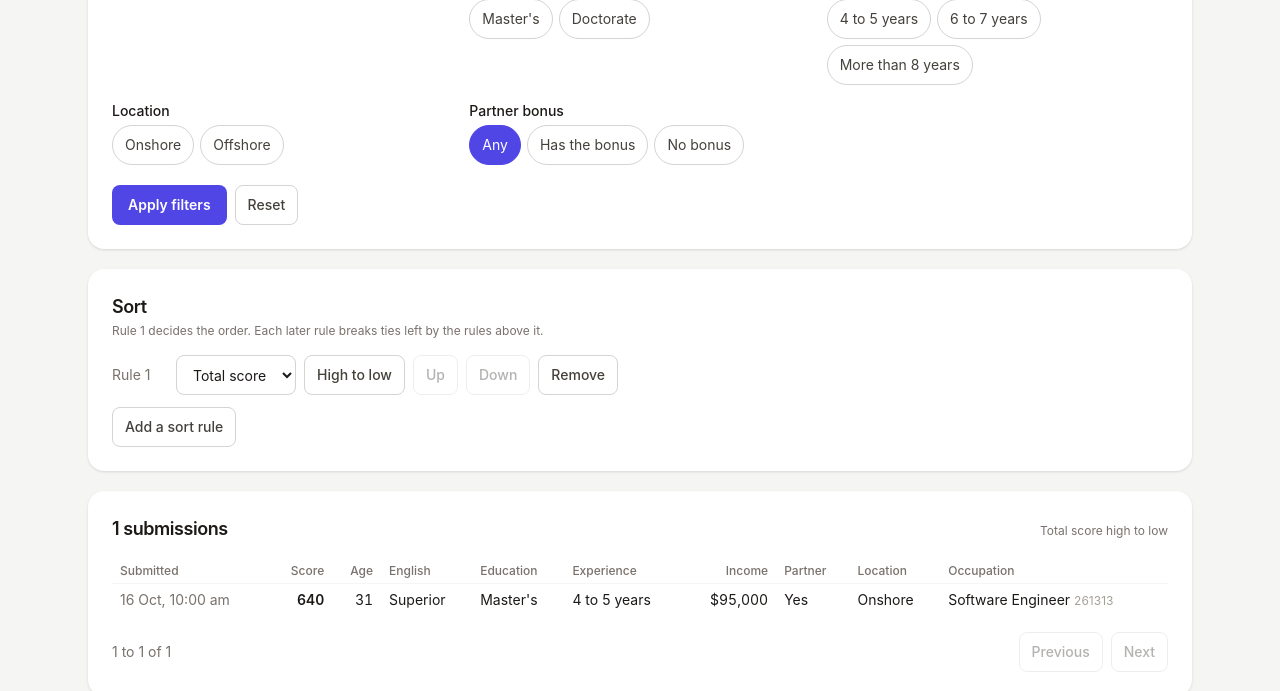
Test: deleting a submission › reports a failure and keeps the confirmation open
The width and height of the screenshot is (1280, 691).
(page scrolled)
What coordinates should you click on to do the following:
click the text "Software Engineer"
I would click on:
 (1054, 600)
Its box is [940,584,1168,616].
(page scrolled)
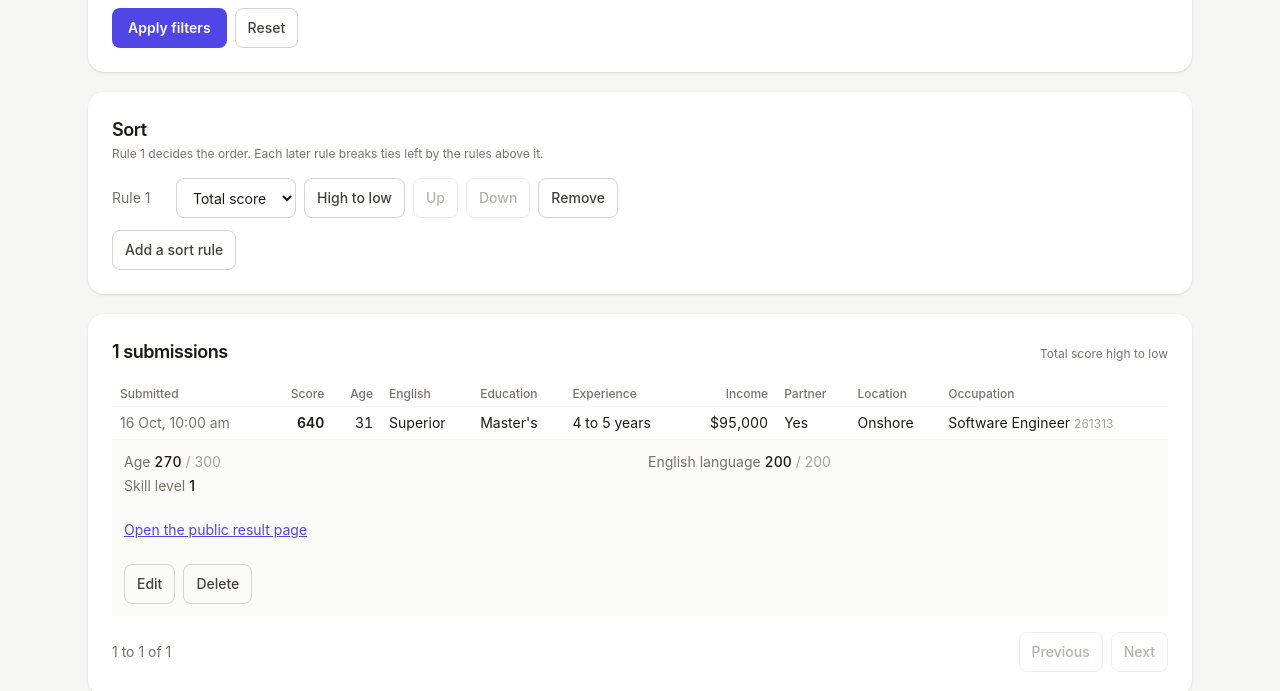
What coordinates should you click on to do the following:
click the button "Delete"
I would click on:
 (218, 584)
Its box is [183,564,252,604].
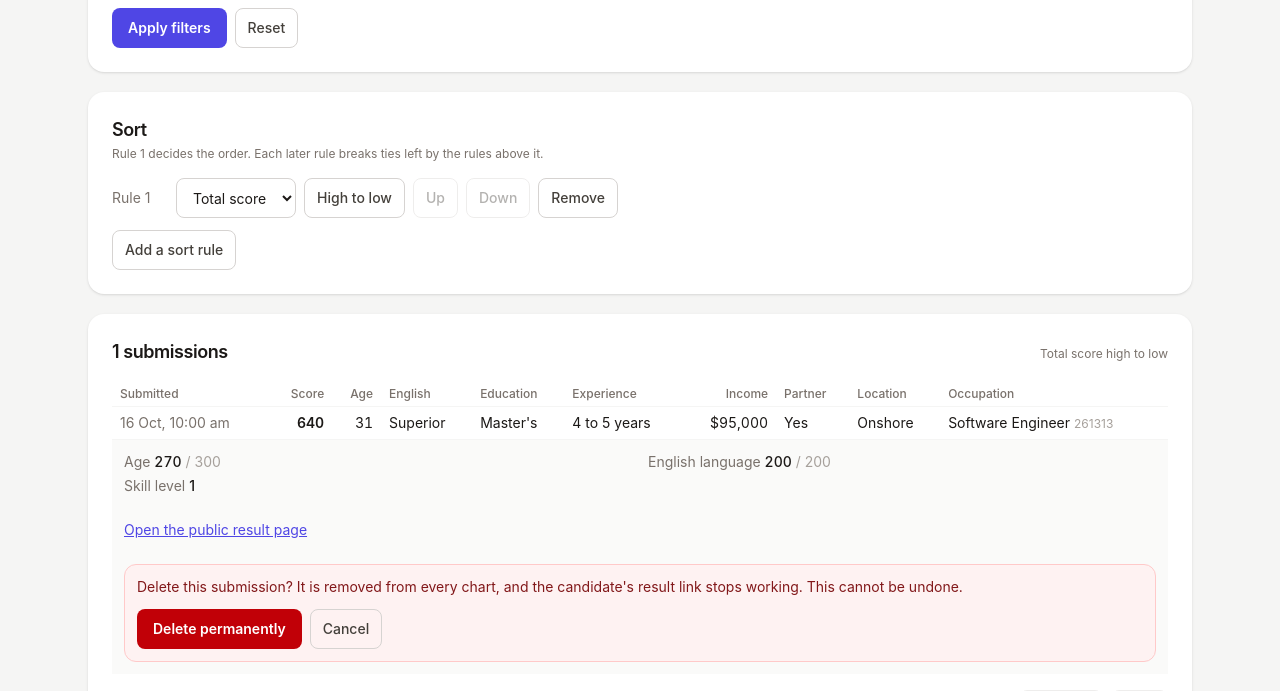
What coordinates should you click on to do the following:
click the button "Delete permanently"
I would click on:
 (219, 629)
Its box is [137,609,302,649].
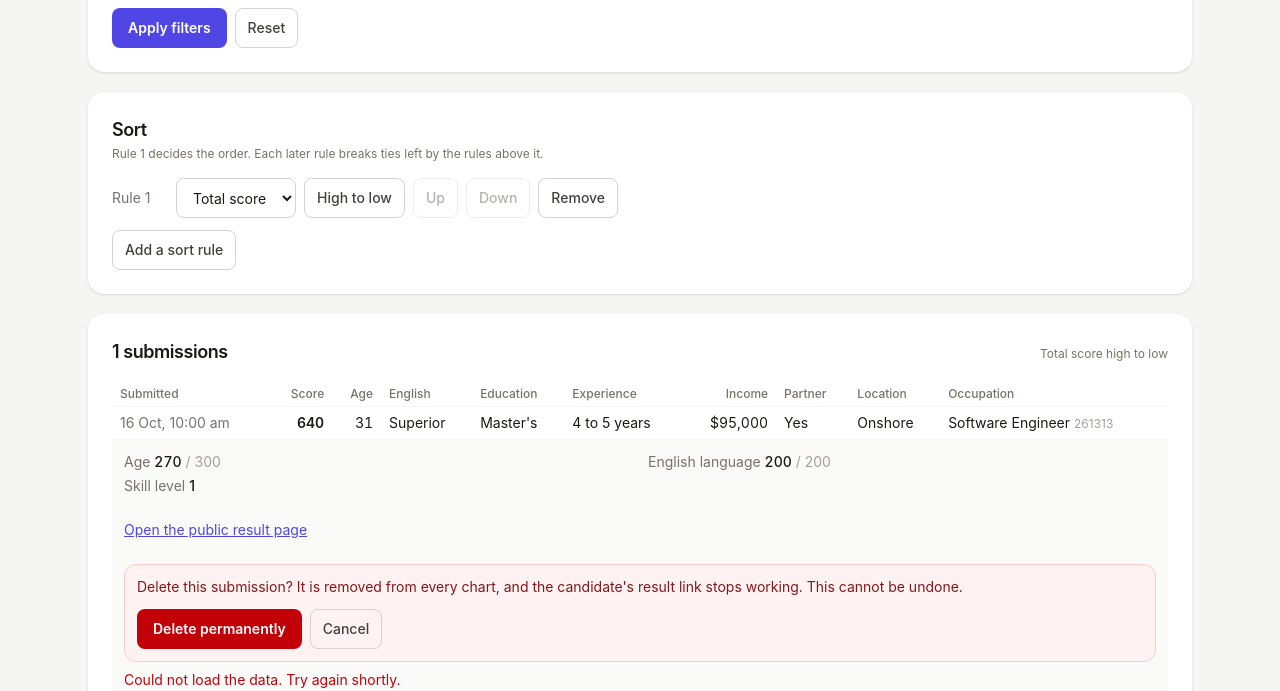
Expected: the message shows "Could not load", [124,671,400,688]
